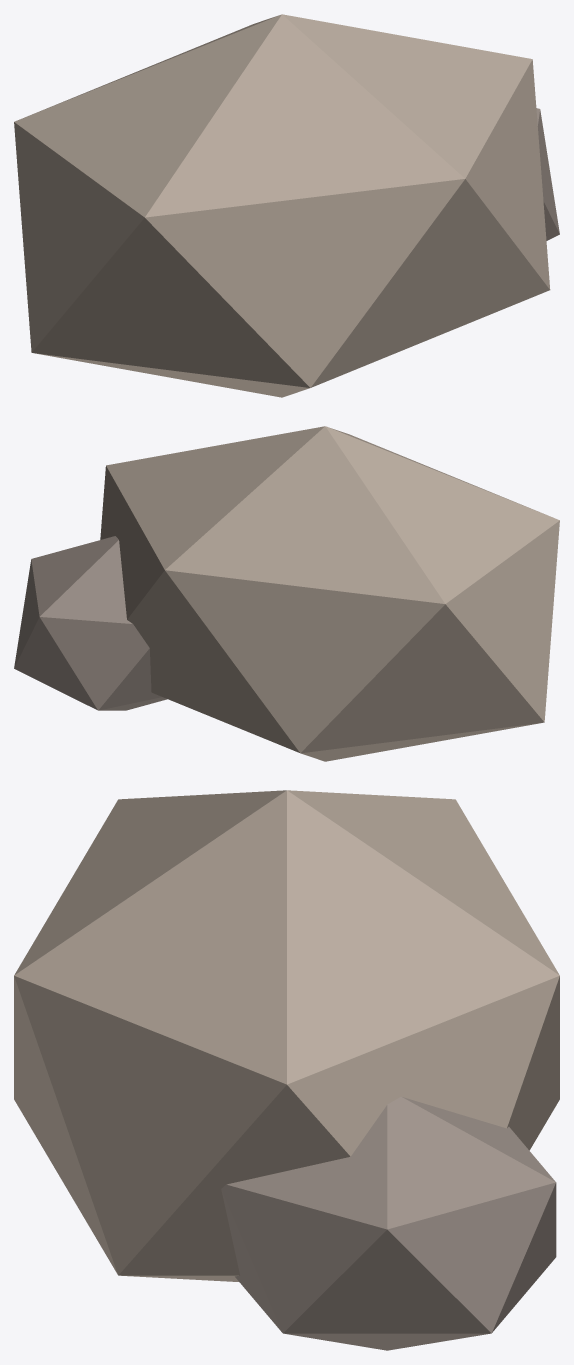
File: wasteland_rock.glb
The picture shows the model from 3 angles, top to bottom: view 1: azimuth 30°, elevation 25°; view 2: azimuth 150°, elevation 25°; view 3: azimuth 270°, elevation 25°; orthographic projection. The views are drawn at different scales.
Visible parts, largest first — view 1: Prop_Rock; view 2: Prop_Rock; view 3: Prop_Rock.
Boxes of the visible parts, left/top/right/bottom form: Prop_Rock: left=14, top=14, right=559, bottom=397; Prop_Rock: left=14, top=426, right=559, bottom=761; Prop_Rock: left=14, top=790, right=559, bottom=1350.
Bounding box in the file's own units: 4.07 × 2.72 × 2.72.
